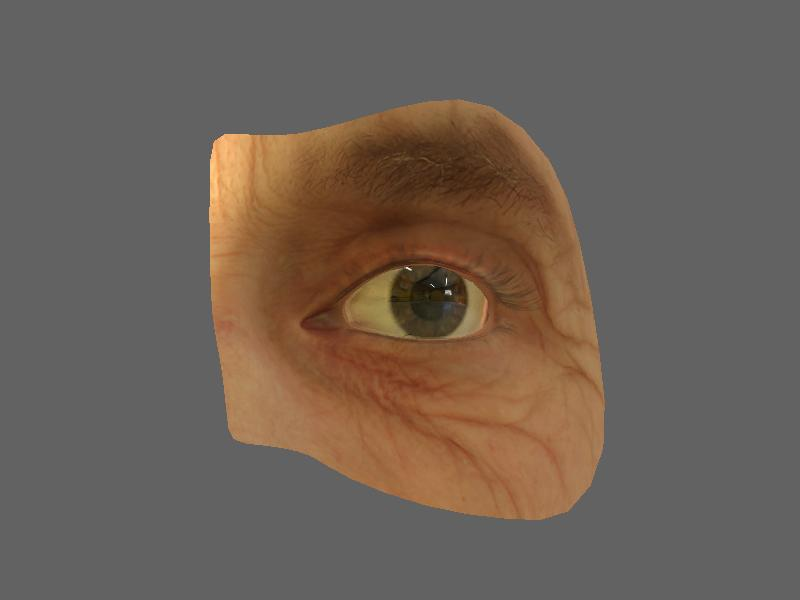iris: (391, 263, 472, 338)
